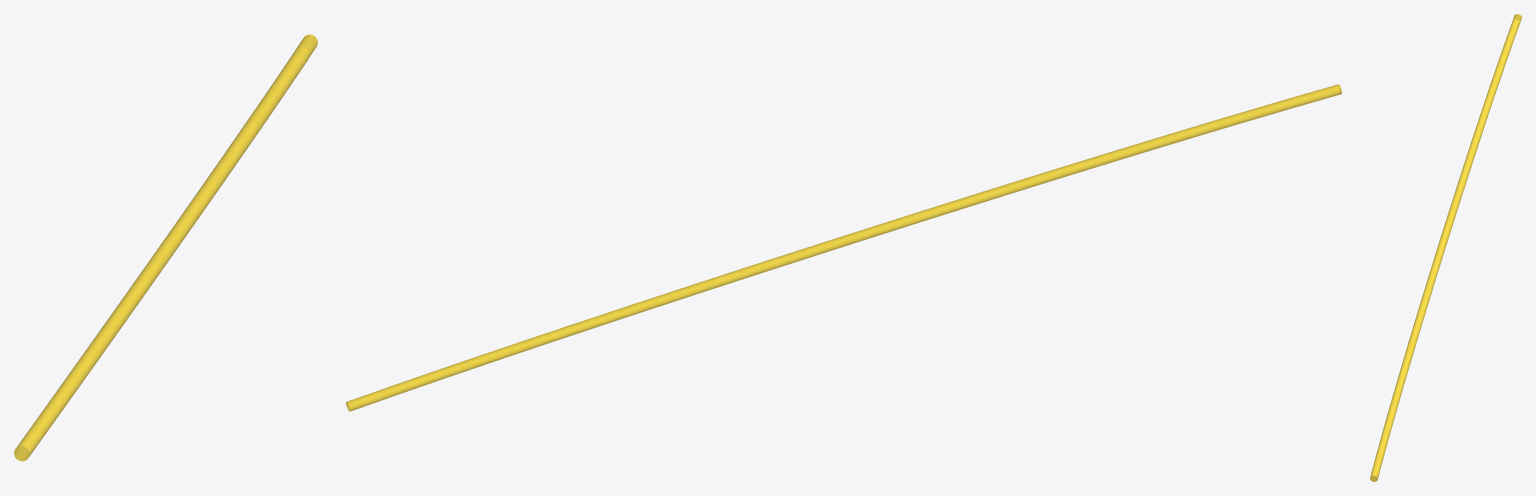
The model's file is Event_15818458_track_27.fbx.
3 renders of one model, left to right at view 1: azimuth 90°, elevation 25°; view 2: azimuth 210°, elevation 25°; view 3: azimuth 270°, elevation 25°, orthographic. The views are drawn at different scales.
Parts seen in each view (by area): view 1: Model; view 2: Model; view 3: Model.
Boxes of the visible parts, x1,y1,x2,y2 form: Model: (14,34,317,461); Model: (346,84,1341,411); Model: (1370,14,1521,481).
Bounding box in the file's own units: 3.97 × 0.7477 × 0.7628.
